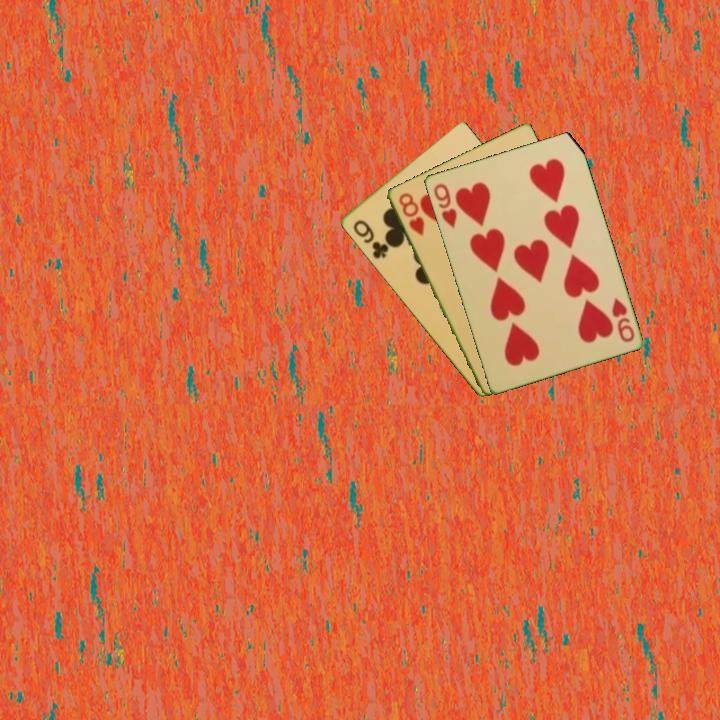8h: (395, 189, 427, 239)
9c: (349, 216, 391, 262)
9h: (430, 180, 460, 231), (608, 294, 637, 345)
